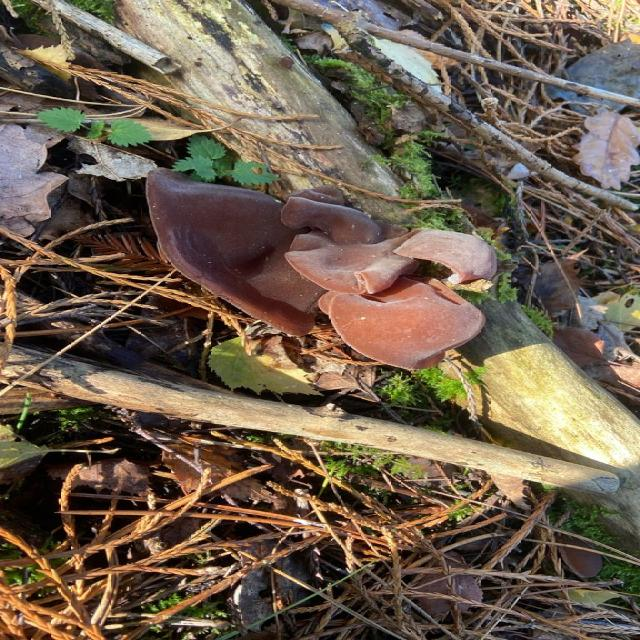Matang: (132, 165, 527, 368)
